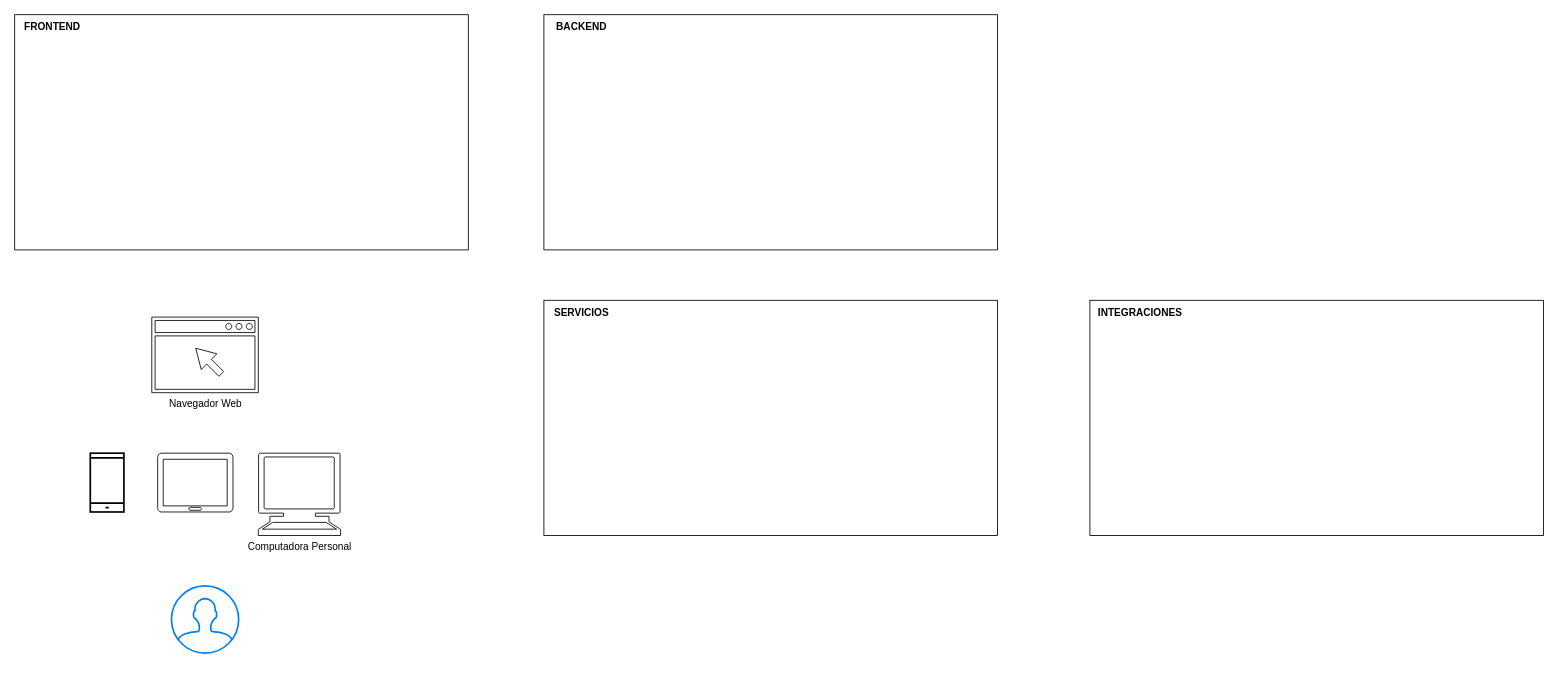
The diagram is 1558 pixels wide and 685 high, and some of its shapes have lost their labels. The shapes that lost their labels are listed below. From the top down, each one's centre as x and y in pixels, then its label:
pixel 106 482: Teléfono Inteligente
pixel 195 482: Tableta
pixel 204 619: Usuario
